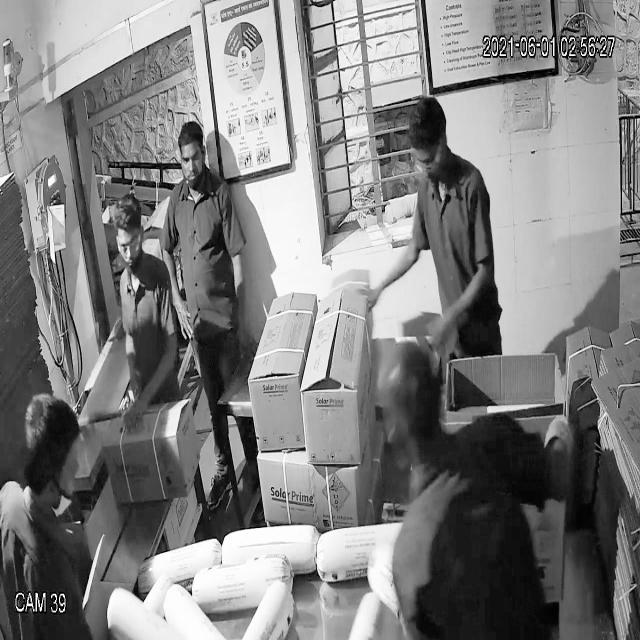glasses: (412, 138, 448, 180), (111, 227, 145, 260)
